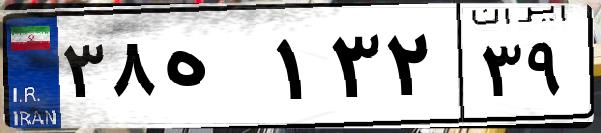1: (270, 28, 330, 110)
2: (385, 28, 445, 110)
3: (330, 28, 385, 110), (57, 26, 110, 100), (475, 38, 525, 113)
8: (110, 28, 158, 98)
9: (525, 38, 570, 115)
ه: (158, 20, 270, 120)
